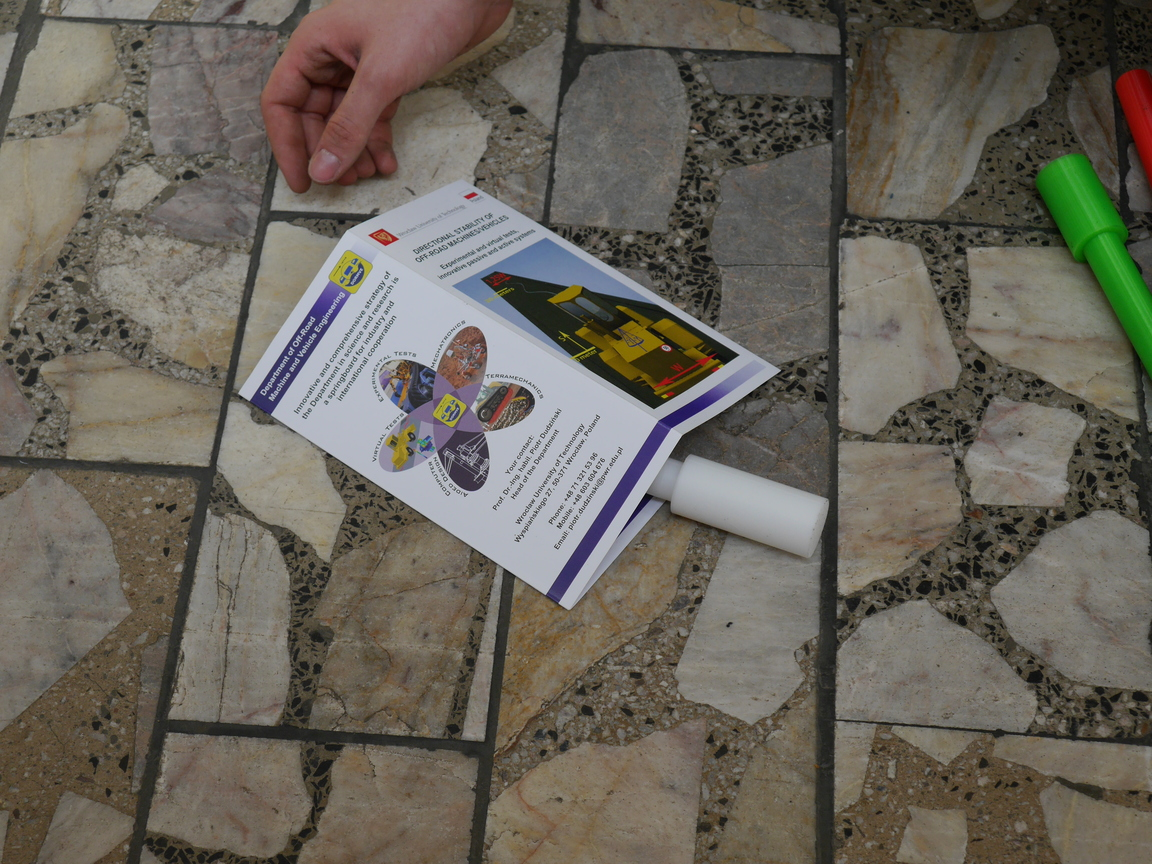cargo_g: (1037, 153, 1152, 374), (646, 454, 832, 561)
